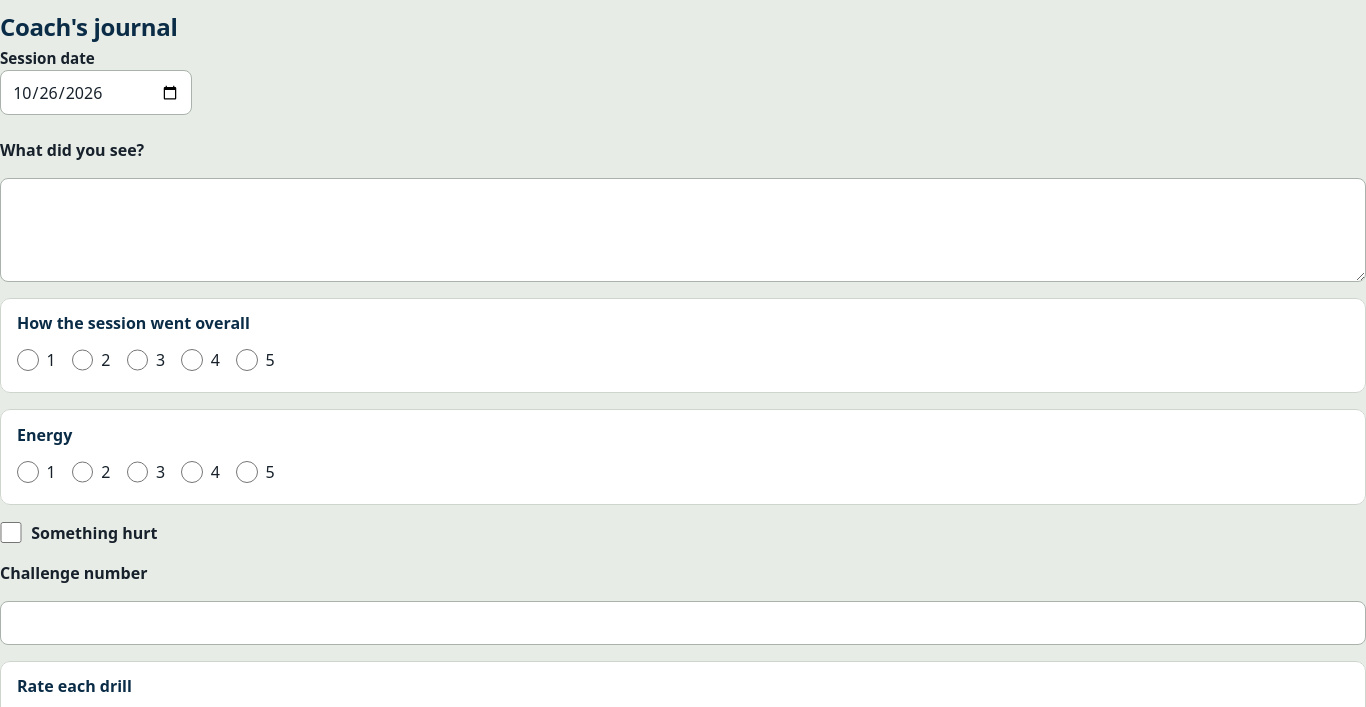
it: the coach's journal › opens a day's entry filled in when one exists
In the date field labelled "Session date": (96, 93) [0,70,192,115], type "2026-09-16"
(page scrolled)
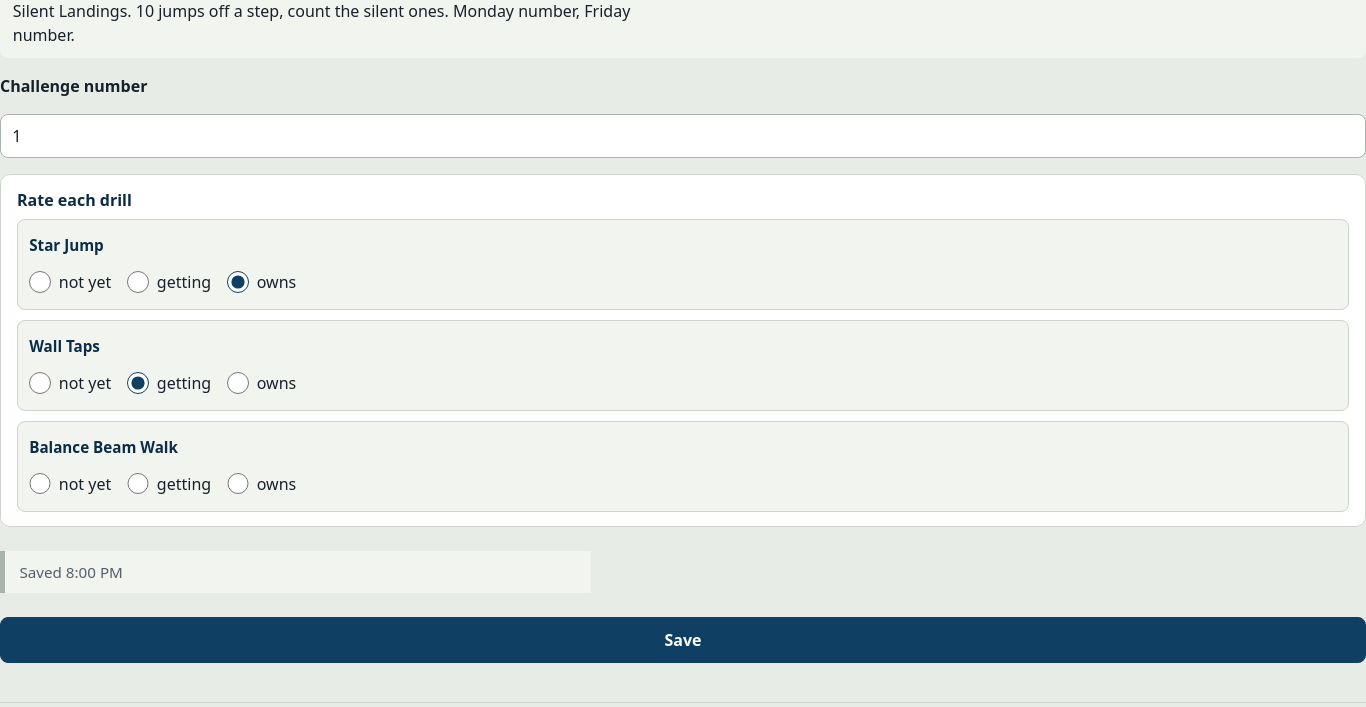
Result: the field labelled "Challenge number" holds "1" at [0,114,1365,158]
Result: the radio button labelled "owns" below "Star Jump" is checked at [227,271,249,293]
Result: the radio button labelled "getting" below "Wall Taps" is checked at [127,372,149,394]
